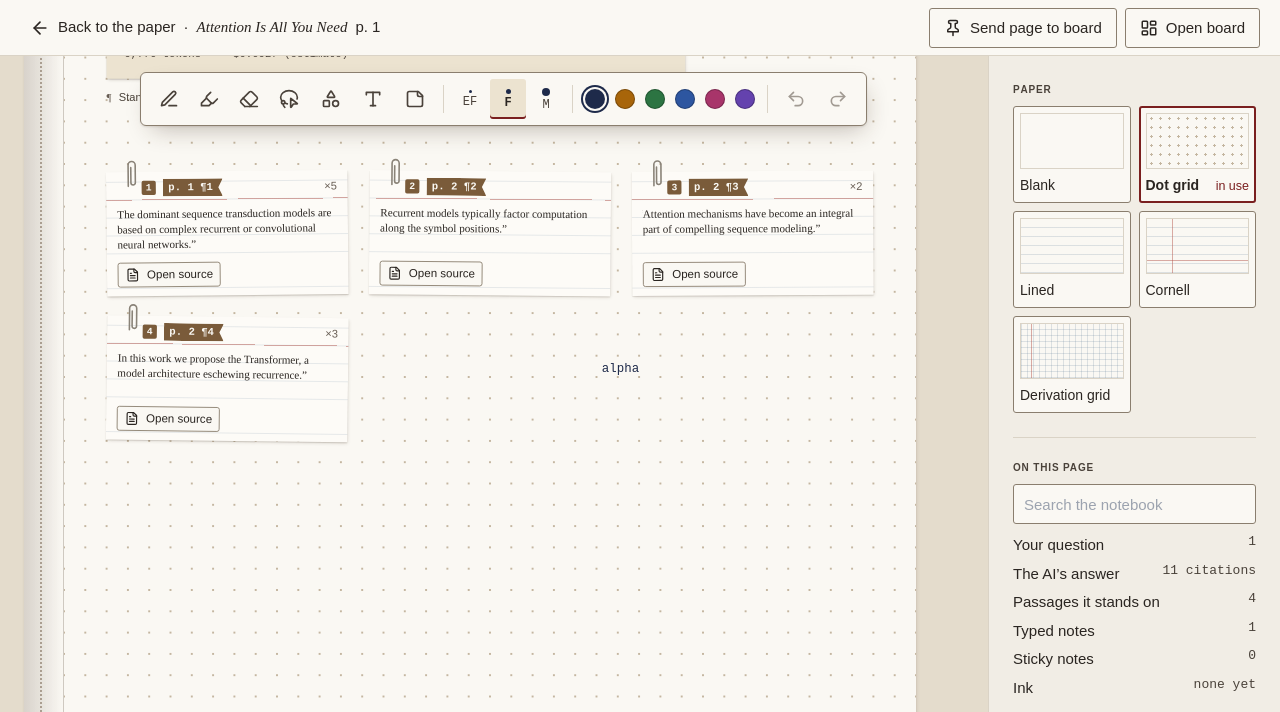
it: a failed save › stays visible after Dismiss until it succeeds, and the next failure shows again
(page scrolled)
Press ArrowLeft in the button with aria-label "Typed note: alpha", box [602,361,639,375]
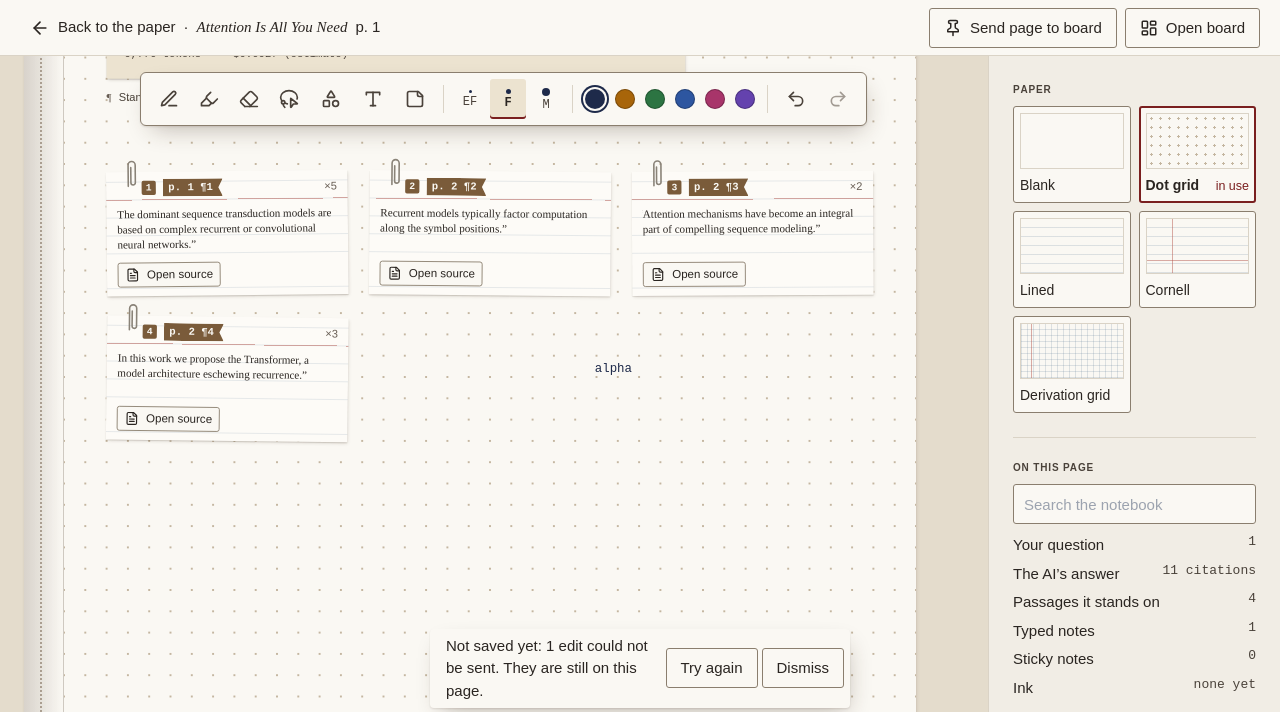
Expected: the text "Not saved yet: 1 edit could not be sent. They are still on this page." is shown, [446,634,662,702]
Click the button "Dismiss" at point(803, 668), box [762,648,844,688]
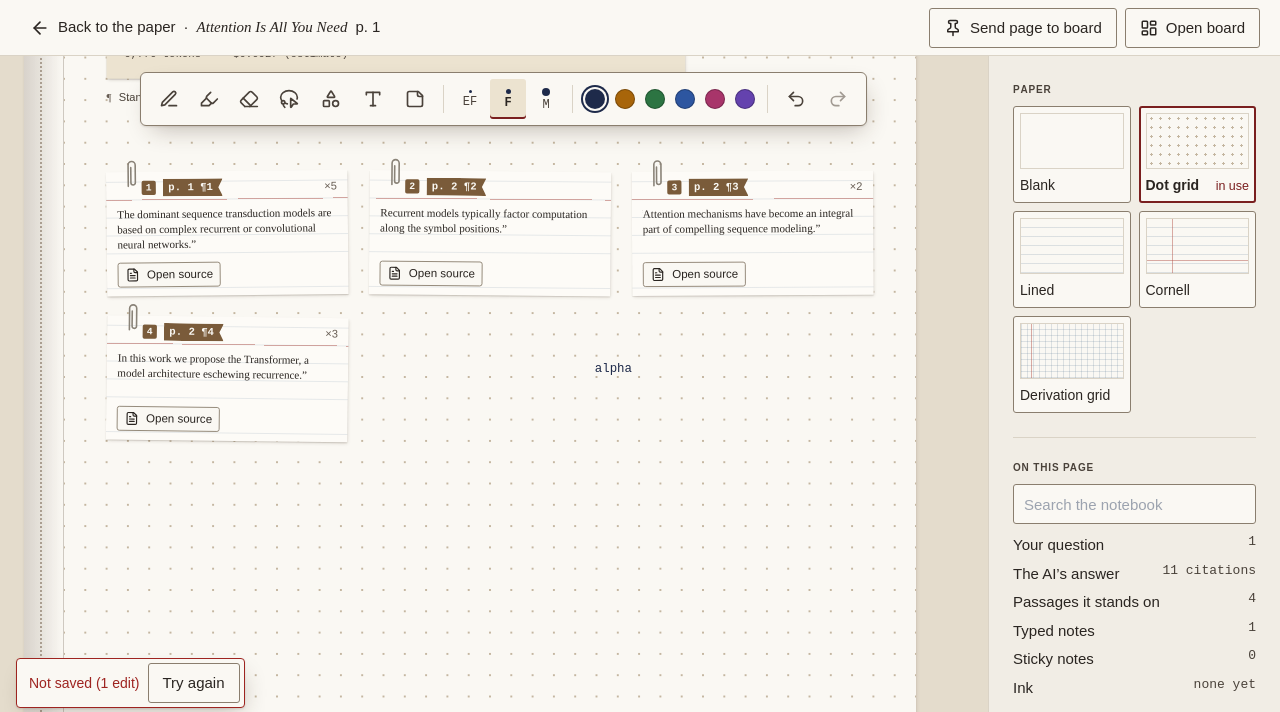
Expected: the text "Not saved (1 edit)" is shown, [29,672,140,694]
Press ArrowLeft in the button with aria-label "Typed note: alpha", box [595,361,632,375]
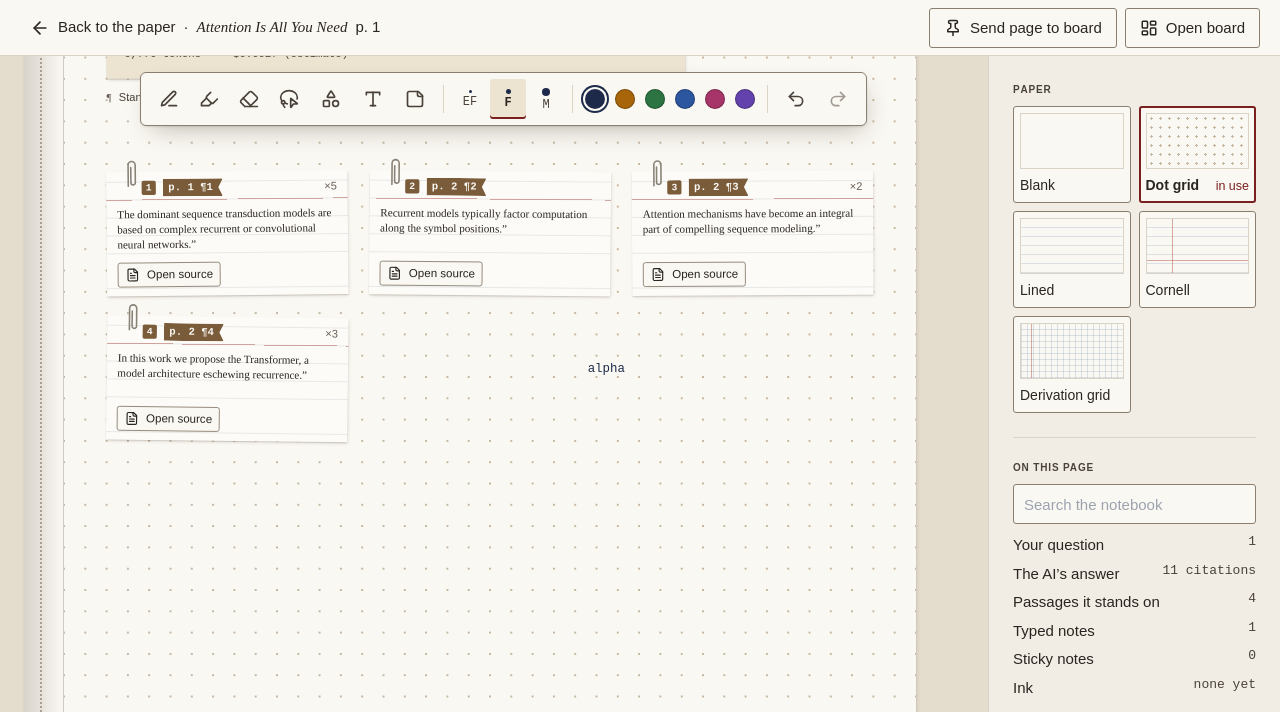
Expected: the text "Not saved" is gone
Press ArrowLeft in the button with aria-label "Typed note: alpha", box [588,361,625,375]
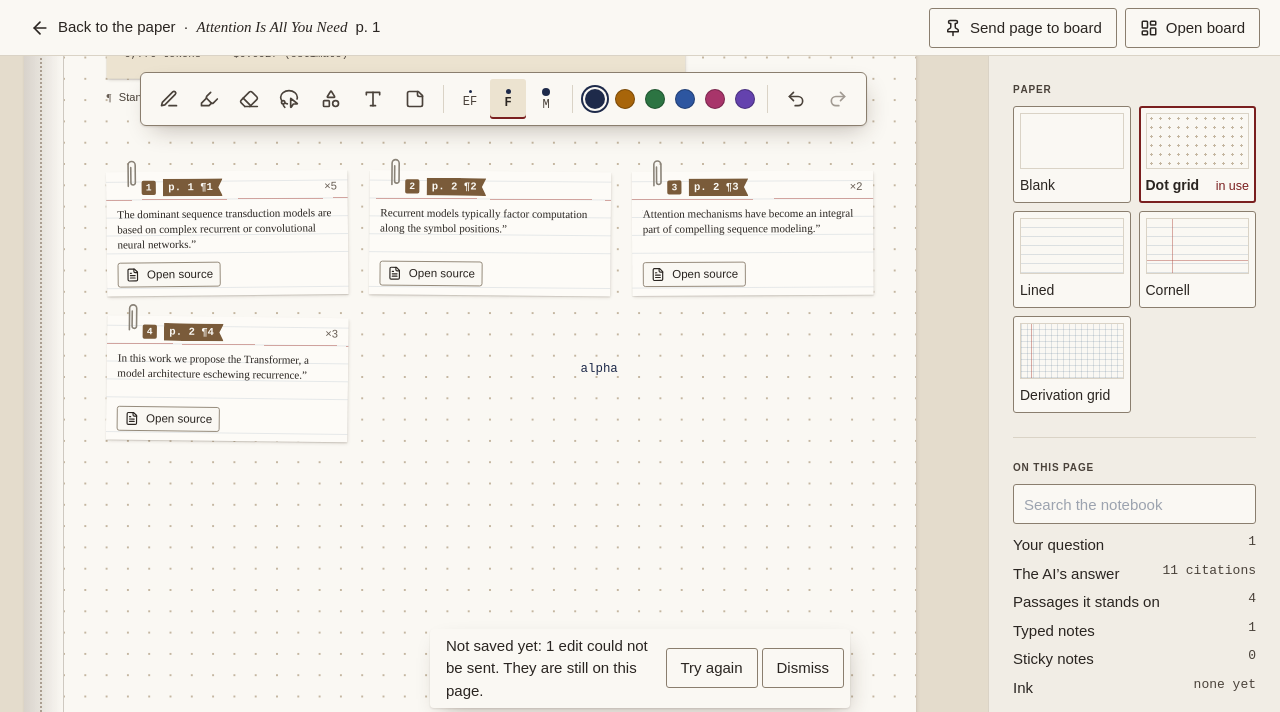
Expected: the text "Not saved yet: 1 edit could not be sent. They are still on this page." is shown, [446,634,662,702]
